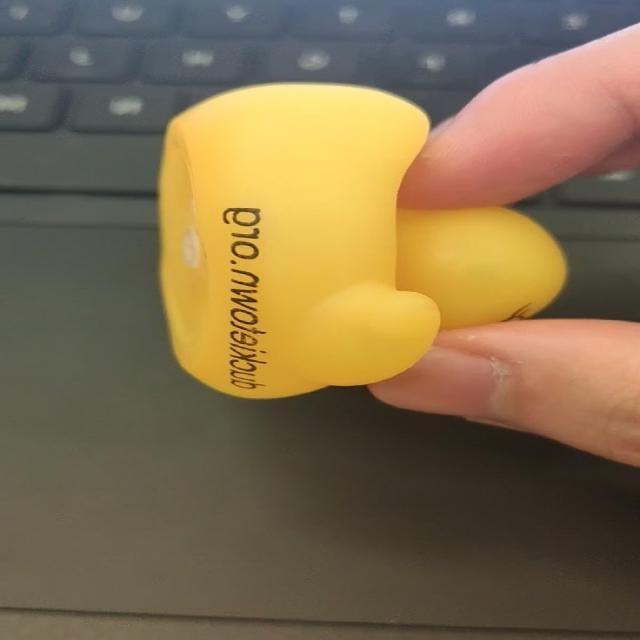rubber-duck: (159, 83, 564, 396)
